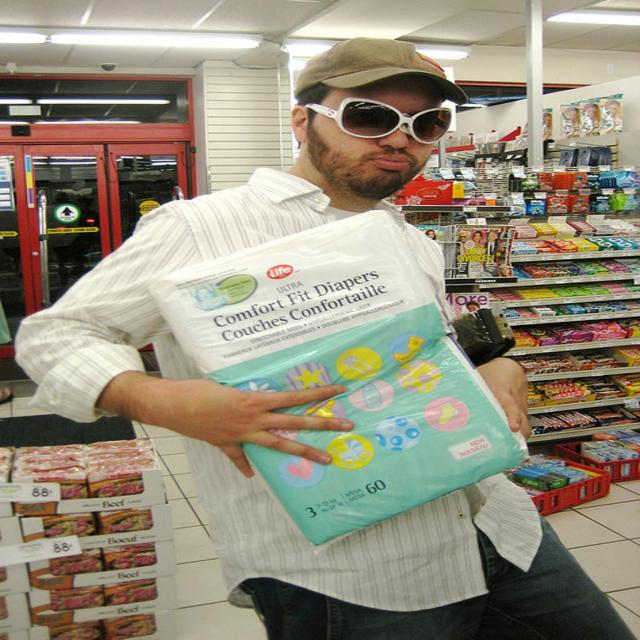Face: (299, 78, 462, 200)
